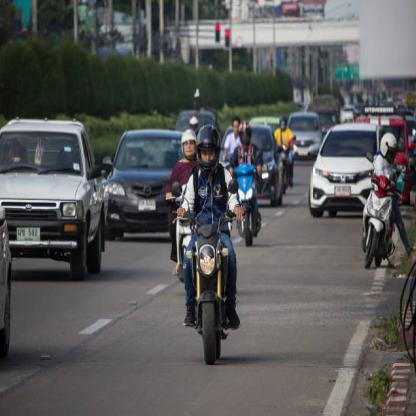Motorcycle: (176, 214, 239, 369), (356, 164, 397, 279), (229, 153, 263, 248)
